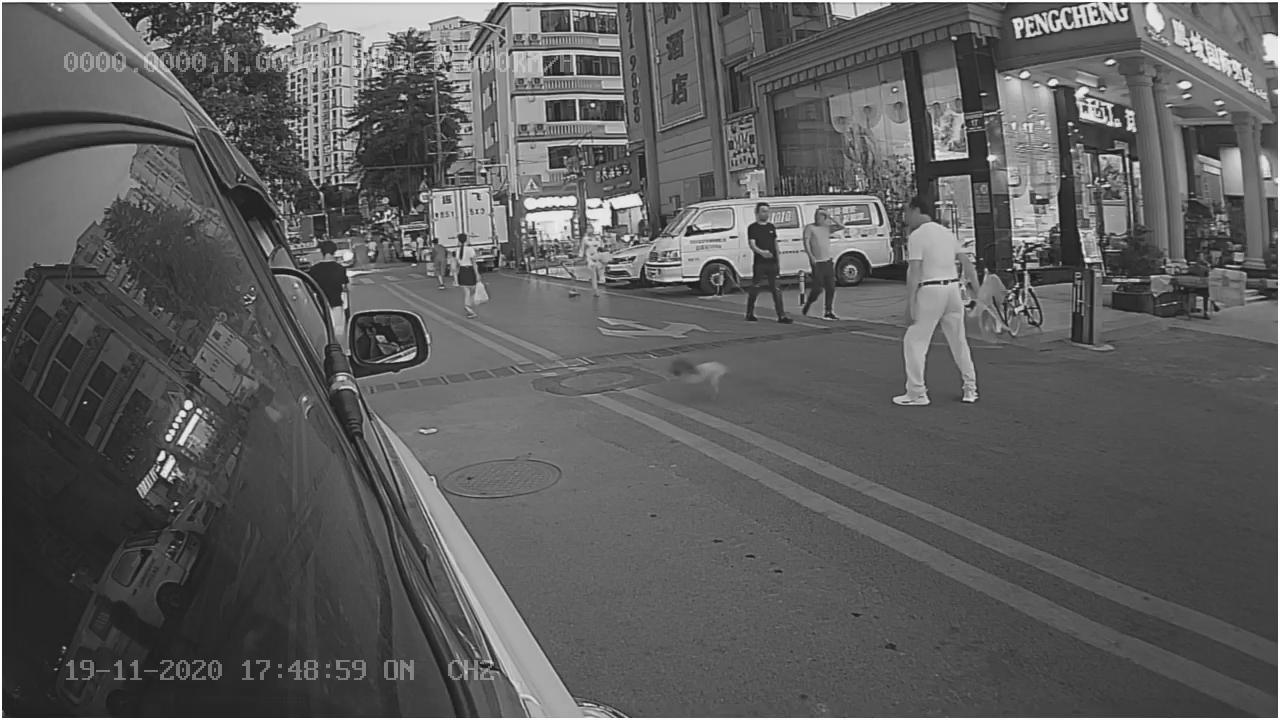person: (888, 191, 987, 419)
